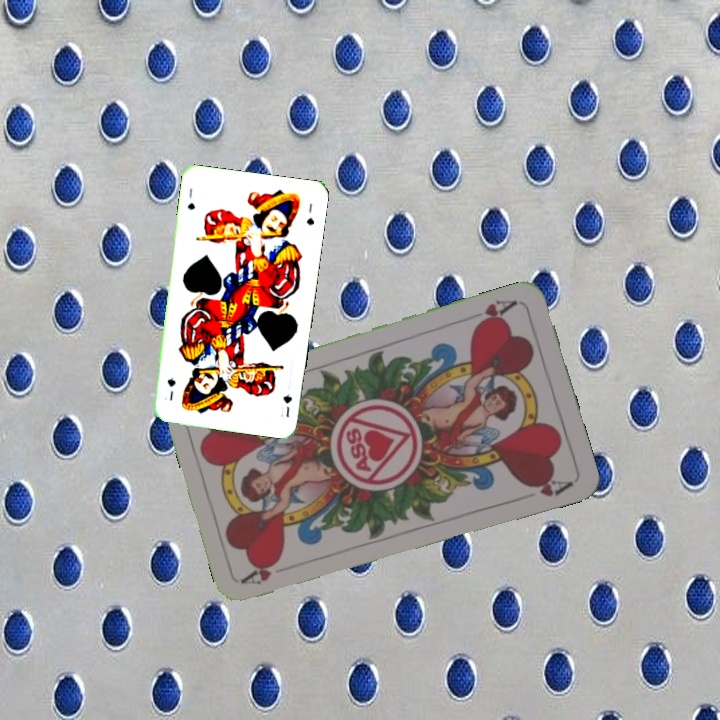GU: (277, 390, 295, 420), (183, 184, 197, 212)
HA: (470, 295, 520, 330), (239, 554, 283, 588)
